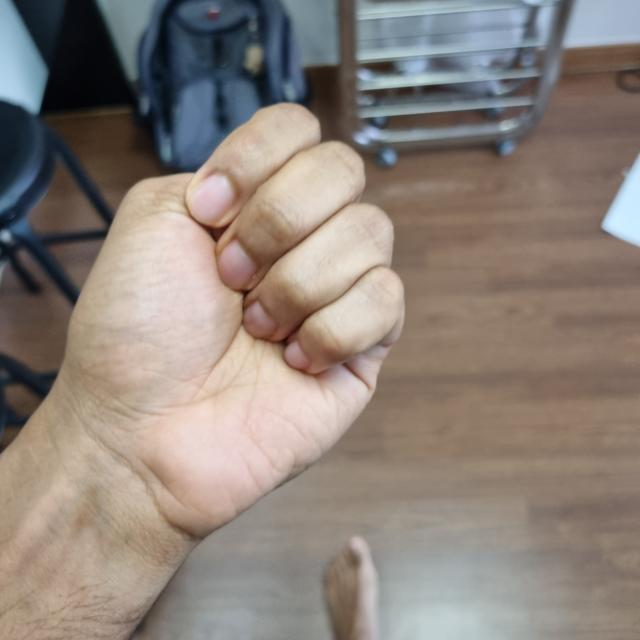Rock: (64, 106, 402, 530)
